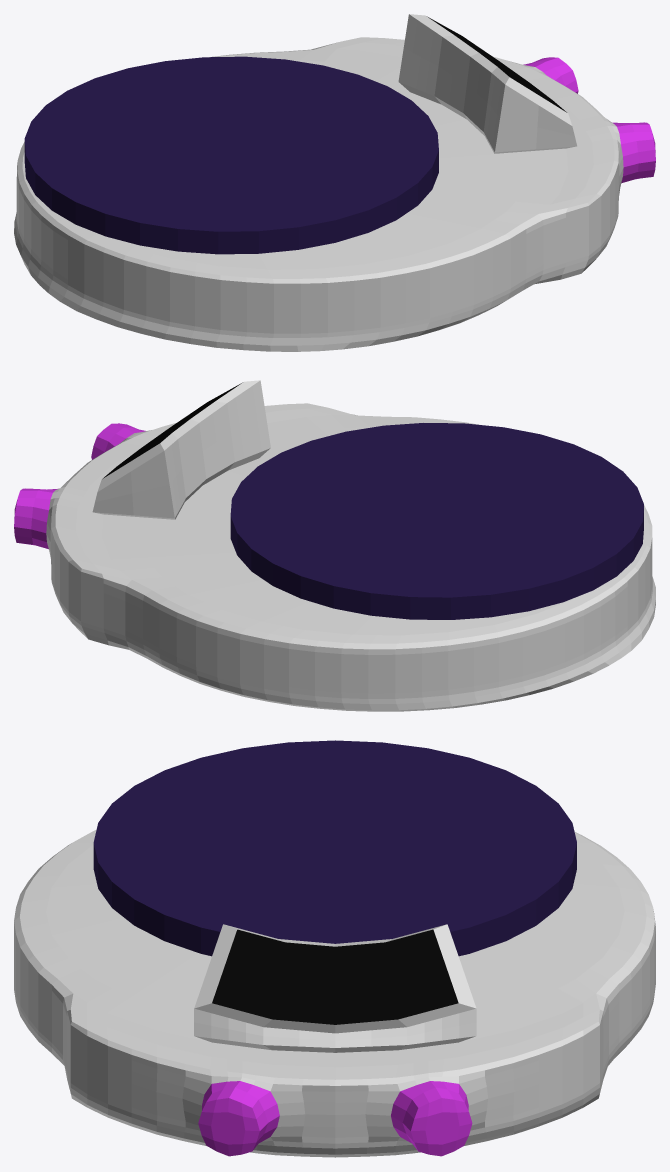
File: hotplate.fbx
3 views of the same model, one above another, from view 1: azimuth 30°, elevation 25°; view 2: azimuth 150°, elevation 25°; view 3: azimuth 270°, elevation 25° (orthographic). The views are drawn at different scales.
Parts seen in each view (by area): view 1: Cylinder; view 2: Cylinder; view 3: Cylinder.
Boxes of the visible parts, box(x1,y1,x2,y2) form: Cylinder: box(14, 14, 655, 351); Cylinder: box(14, 380, 655, 711); Cylinder: box(14, 740, 655, 1157).
Size of the model in its own units: 313 by 77.91 by 266.
